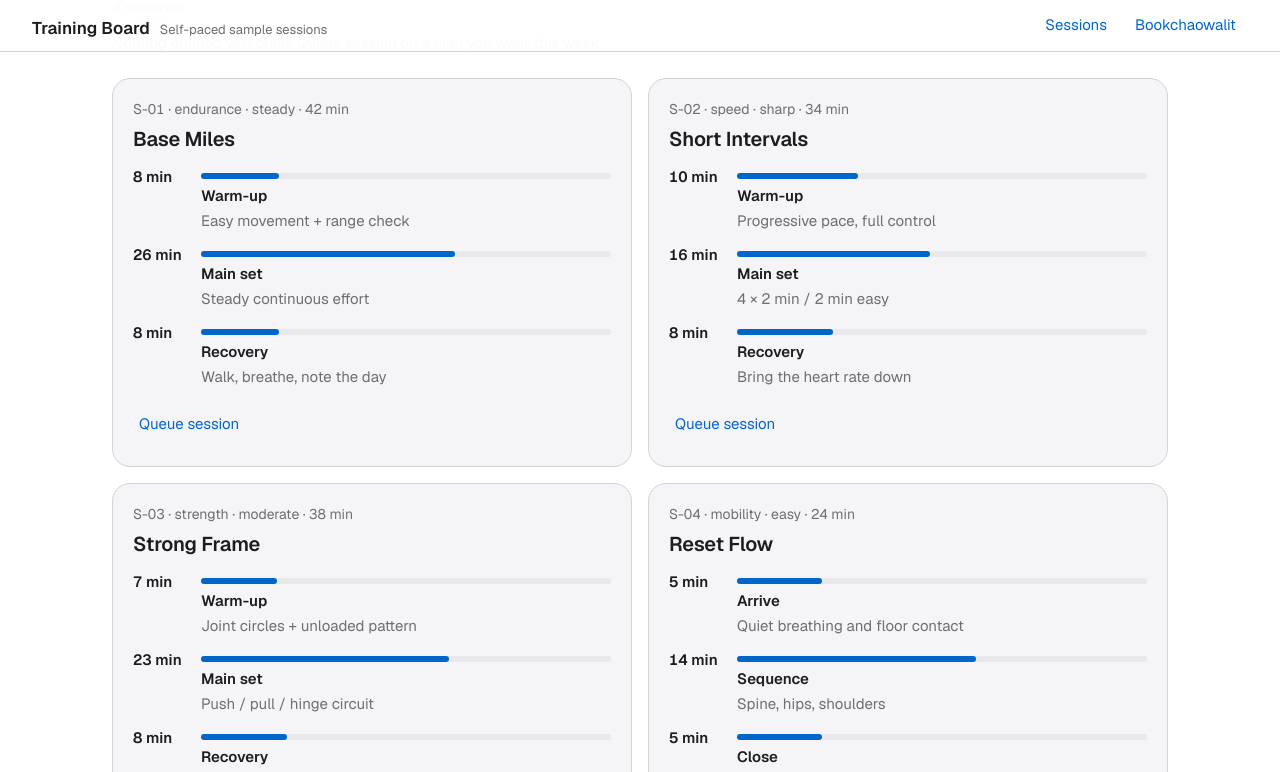
Test: home page (mounted) › queues and unqueues sessions with a pressed button and an announced count
(page scrolled)
Click the button "Queue session" below "Walk, breathe, note the day" at [189, 424], box [125,402,253,446]
(page scrolled)
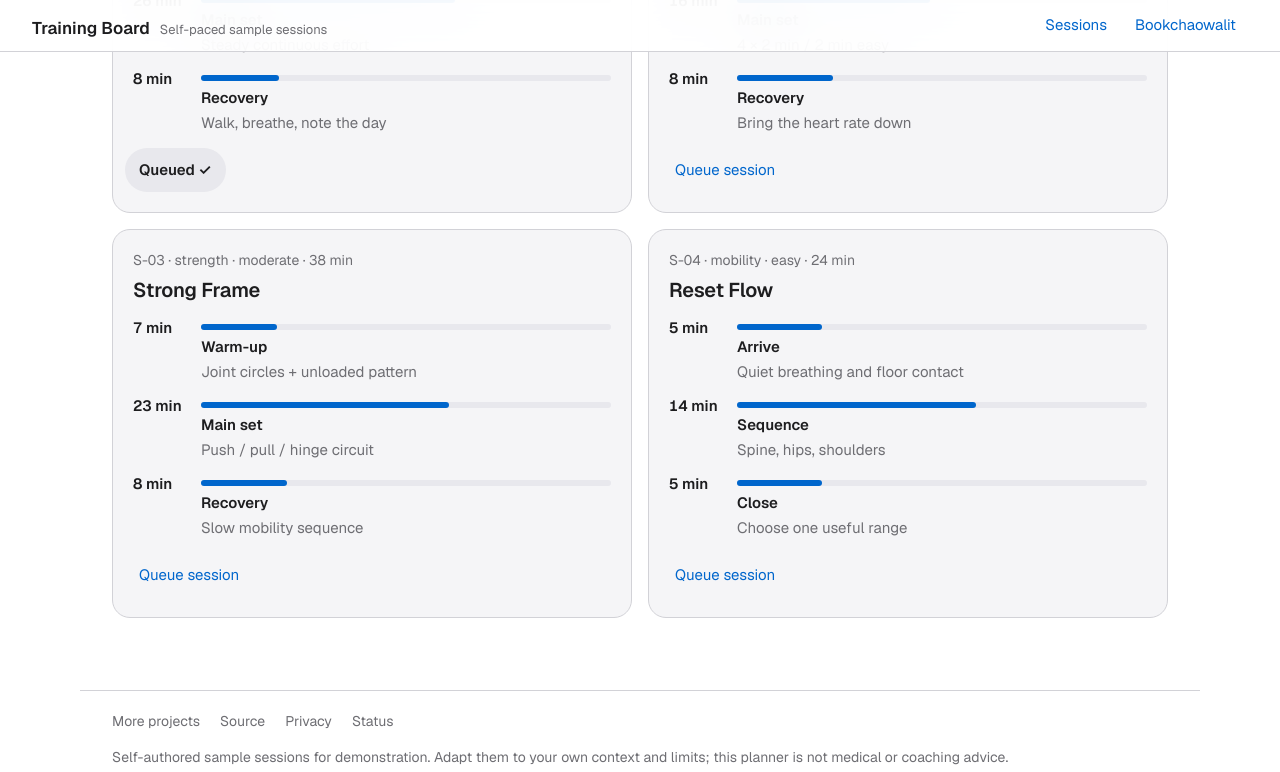
Click the button "Queue session" below "Slow mobility sequence" at [189, 575], box [125,553,253,597]
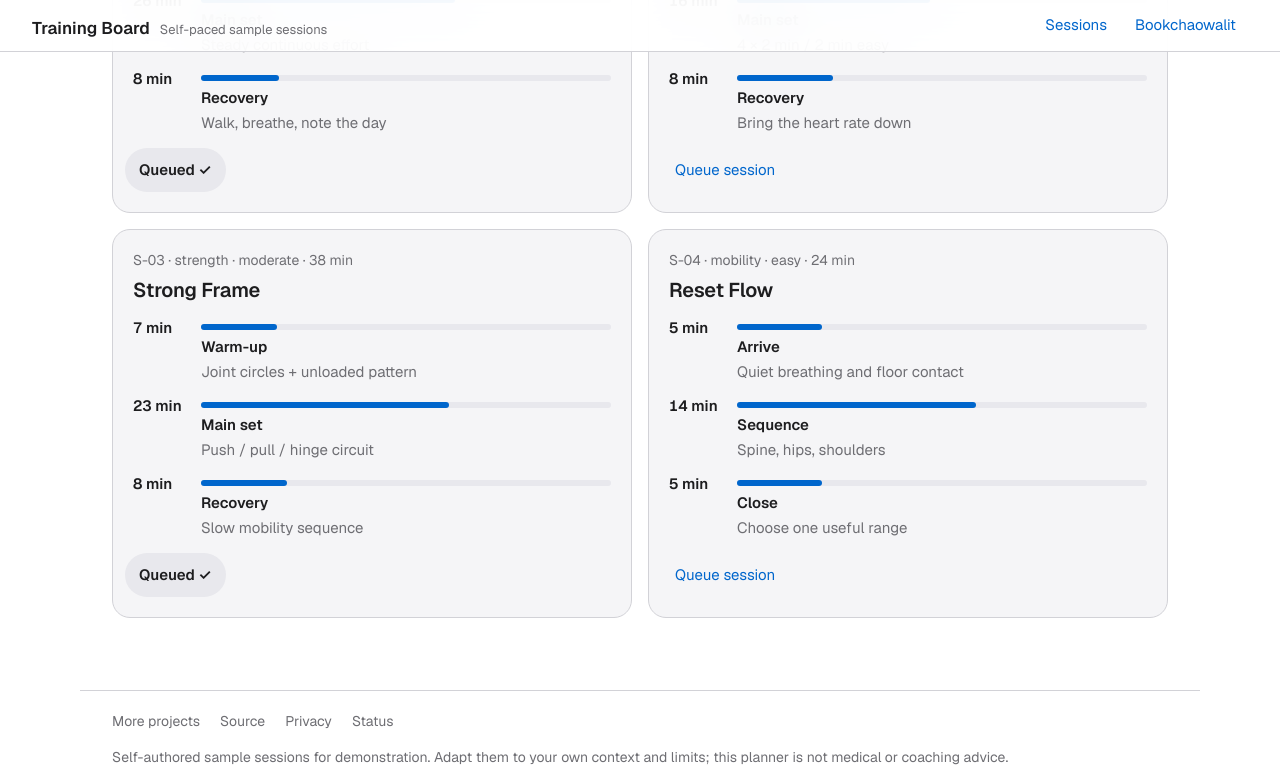
Expected: the button "Queued ✓" below "Walk, breathe, note the day" is pressed
Click the button "Queued ✓" below "Walk, breathe, note the day" at [175, 170], box [125,148,226,192]
(page scrolled)
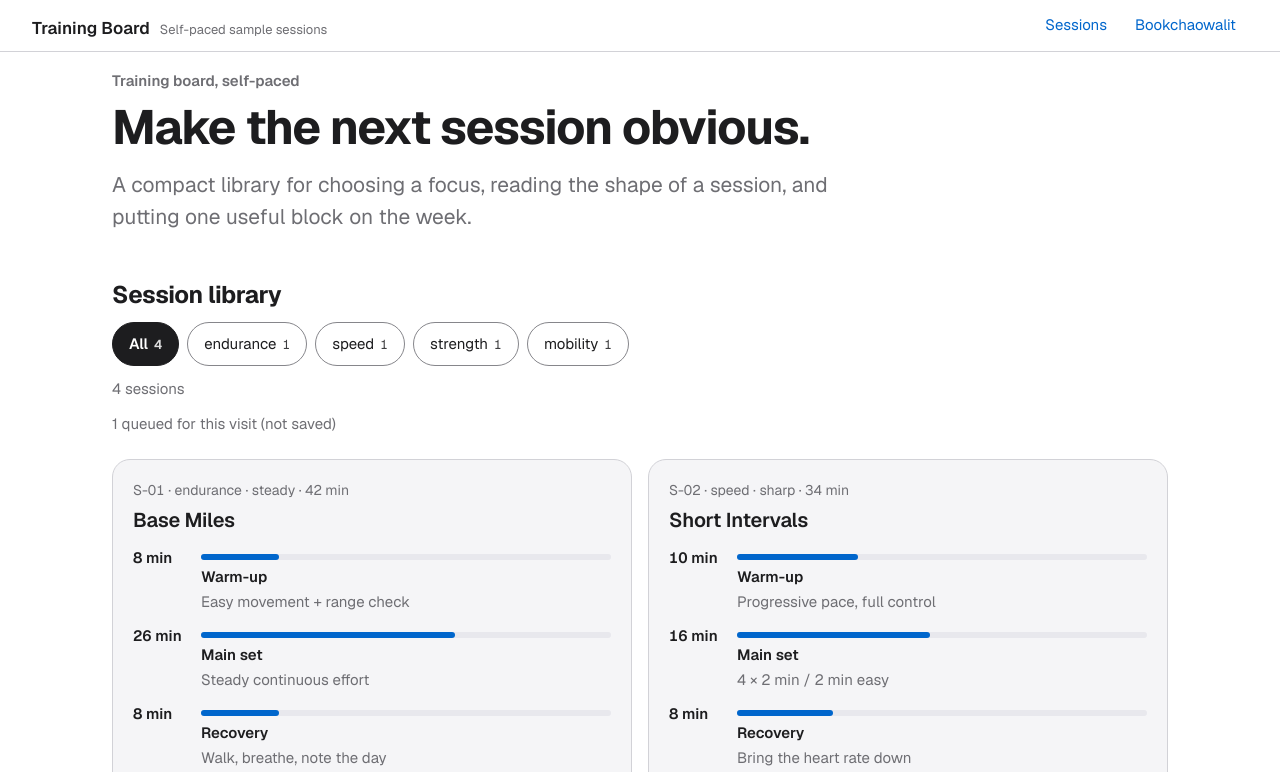
Expected: the message "1 queued for this visit (not saved)" is shown, [112,414,336,433]
